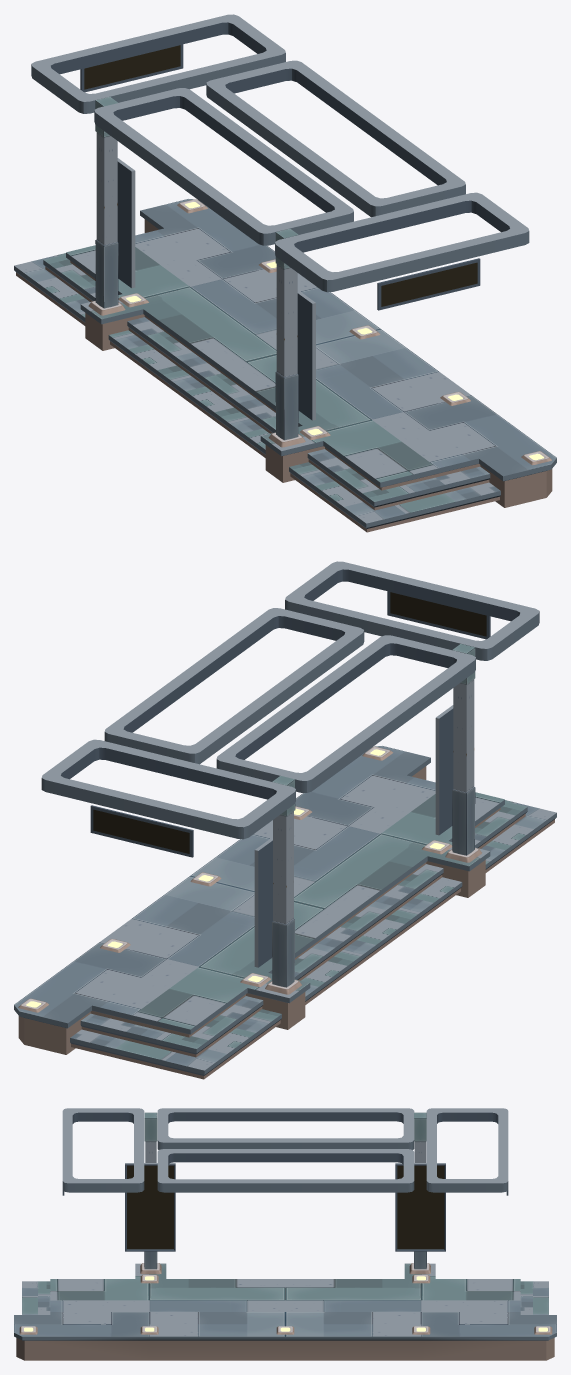
The model's file is tramStation.glb.
3 views of the same model, one above another, from view 1: azimuth 30°, elevation 25°; view 2: azimuth 150°, elevation 25°; view 3: azimuth 270°, elevation 25° (orthographic). The views are drawn at different scales.
Parts seen in each view (by area): view 1: station_model; view 2: station_model; view 3: station_model.
Boxes of the visible parts, x1=… form: station_model: x1=14, y1=14, x2=556, y2=532; station_model: x1=14, y1=561, x2=556, y2=1079; station_model: x1=14, y1=1108, x2=556, y2=1360.
Size of what is drawn, in the model's own units: 5.16 by 5.73 by 15.73.
1 material, 1 textured.
